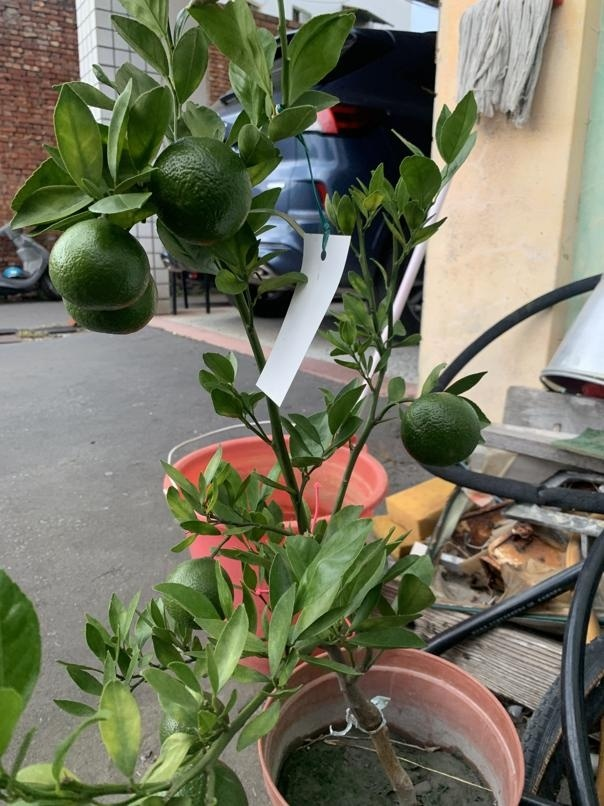Tangerine: (43, 206, 152, 310), (151, 132, 255, 240), (399, 391, 484, 470)
